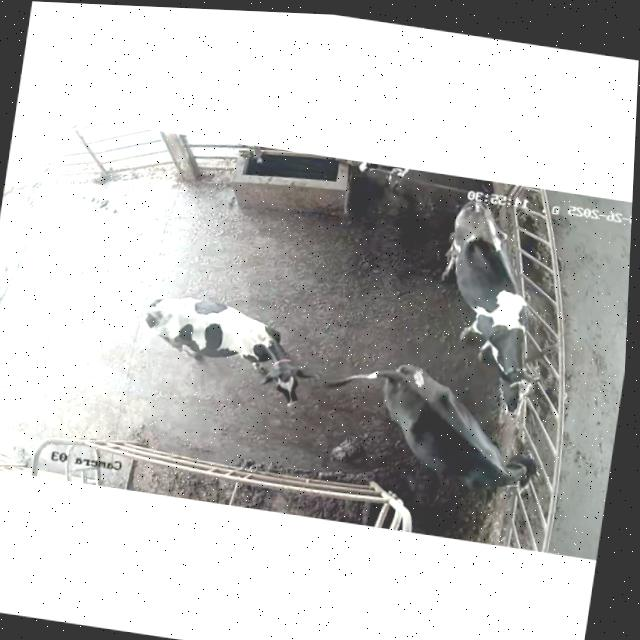stand: (411, 187, 570, 434), (120, 265, 328, 420)
